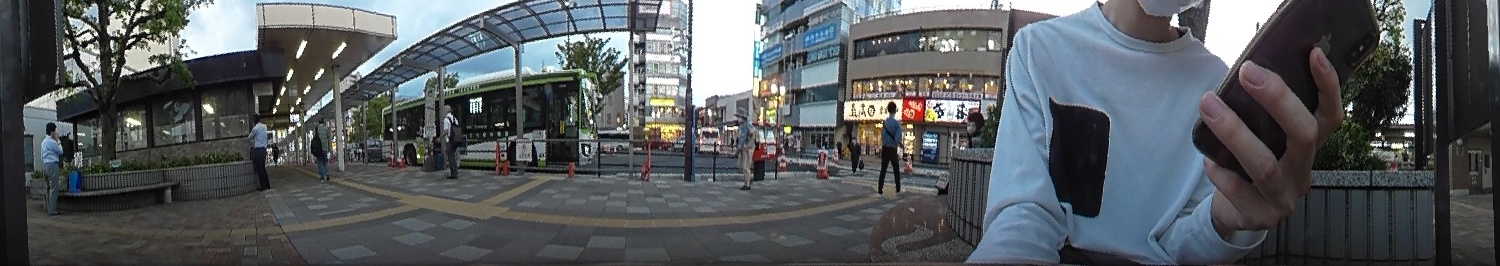difficult_person: (848, 134, 861, 173), (269, 140, 281, 166)
person: (875, 96, 910, 196), (731, 102, 758, 191), (245, 110, 274, 192), (438, 102, 466, 181), (40, 121, 64, 212), (307, 110, 335, 180)
